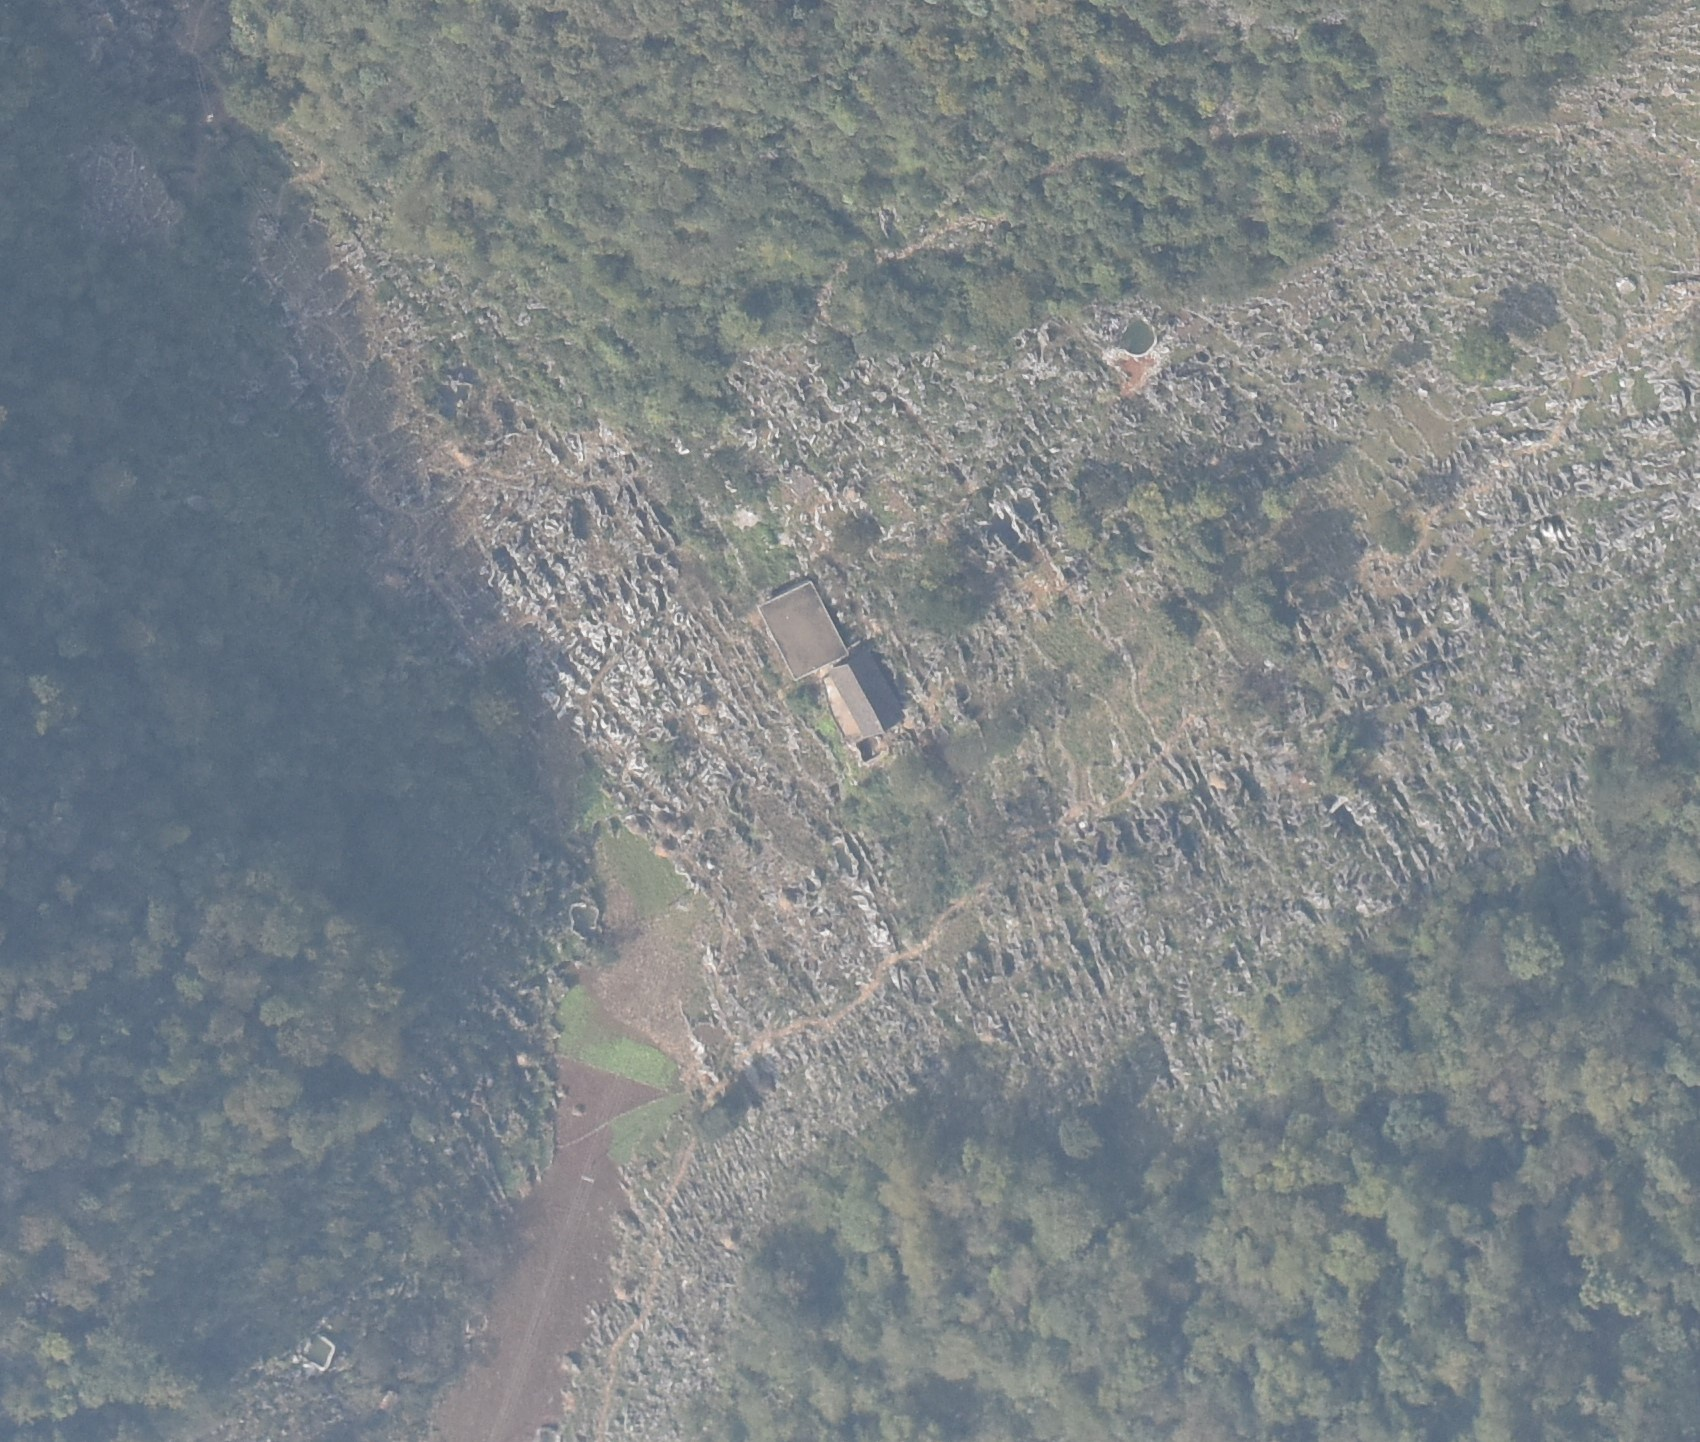building: (756, 581, 849, 682), (823, 654, 904, 744)
